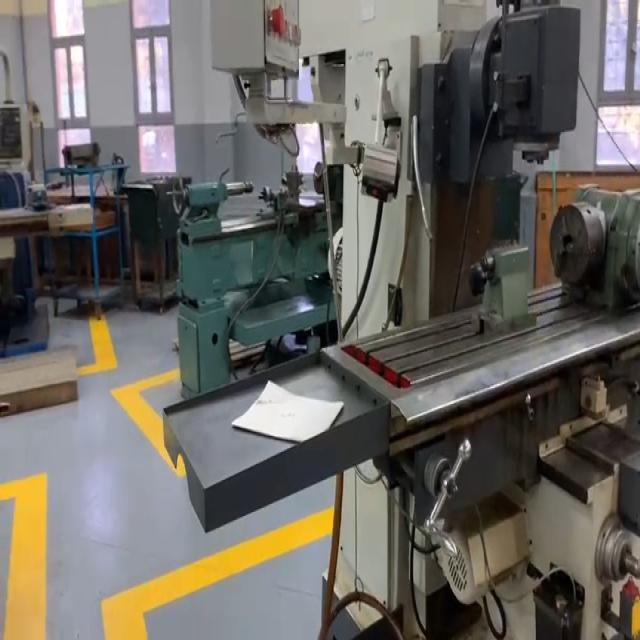fraiseuse: (165, 0, 640, 638)
